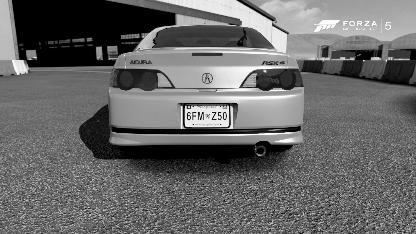license plate: (180, 100, 234, 134)
